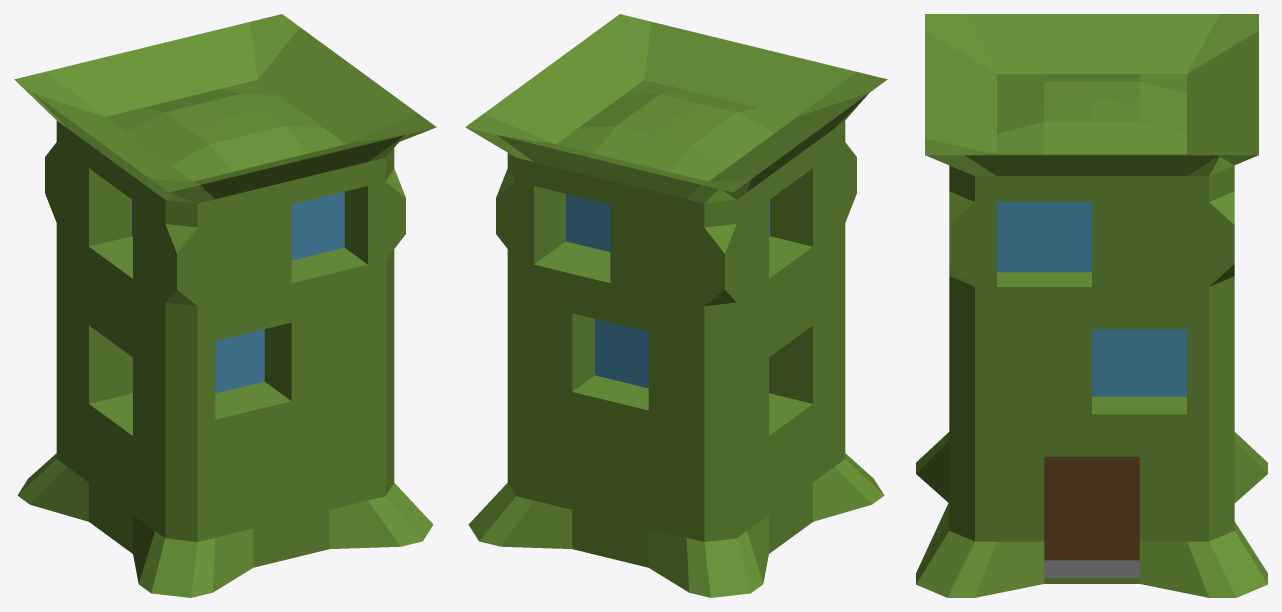
The model's file is house1.glb.
3 renders of one model, left to right at view 1: azimuth 30°, elevation 25°; view 2: azimuth 150°, elevation 25°; view 3: azimuth 270°, elevation 25°, orthographic. The views are drawn at different scales.
Parts seen in each view (by area): view 1: Cube; view 2: Cube; view 3: Cube.
Part boxes in pixels (x1,y1,x2,y2): Cube: (14, 14, 436, 597); Cube: (465, 14, 887, 597); Cube: (916, 14, 1267, 597).
Size of the model in its own units: 2.47 by 3.39 by 2.47.
Materials: 1 (1 with a texture image).
